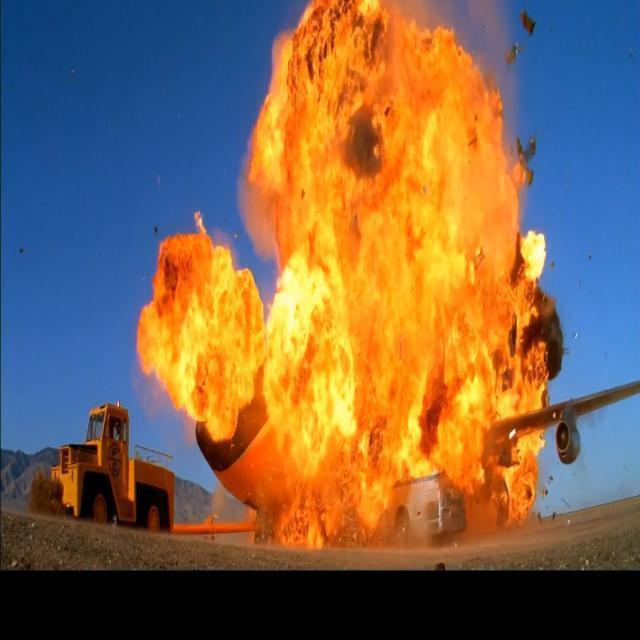fire: (132, 8, 564, 550)
